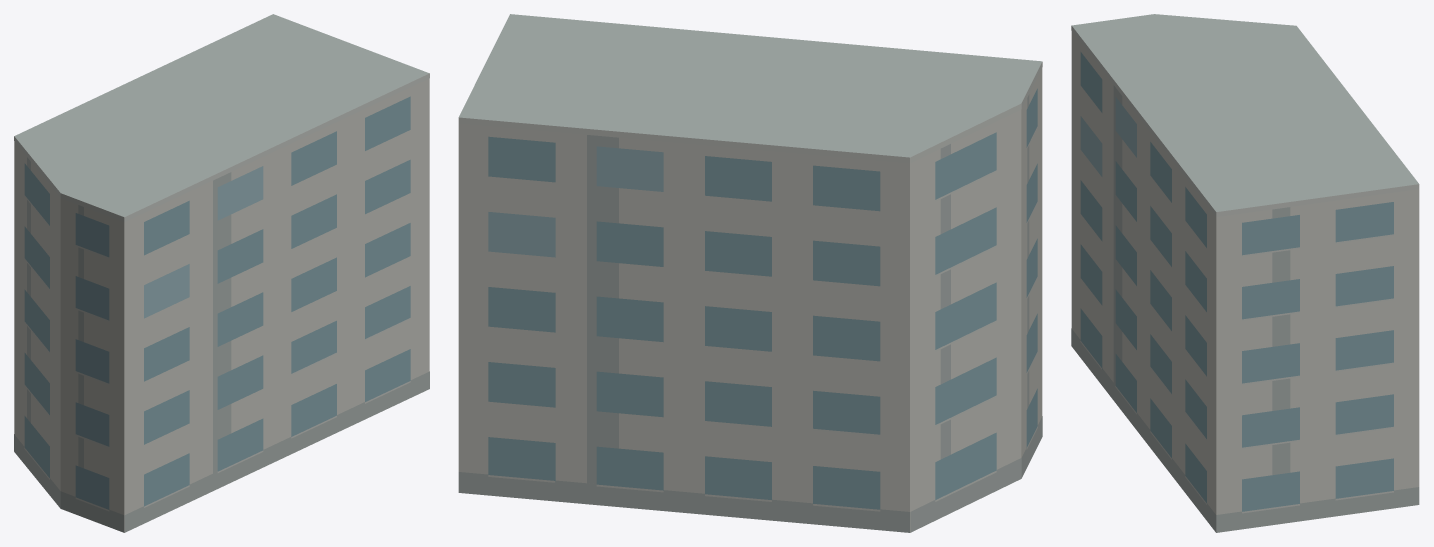
The model's file is residential-970bc5d6-501e-4245-a82c-68d0f33bf5a7.glb.
3 renders of one model, left to right at view 1: azimuth 30°, elevation 25°; view 2: azimuth 150°, elevation 25°; view 3: azimuth 270°, elevation 25°, orthographic. The views are drawn at different scales.
Visible parts, largest first — view 1: residential-970bc5d6-501e-4245-a82c-68d0f33bf5a7.tmp; view 2: residential-970bc5d6-501e-4245-a82c-68d0f33bf5a7.tmp; view 3: residential-970bc5d6-501e-4245-a82c-68d0f33bf5a7.tmp.
Boxes of the visible parts, x1,y1,x2,y2 form: residential-970bc5d6-501e-4245-a82c-68d0f33bf5a7.tmp: [14, 14, 429, 532]; residential-970bc5d6-501e-4245-a82c-68d0f33bf5a7.tmp: [458, 14, 1042, 532]; residential-970bc5d6-501e-4245-a82c-68d0f33bf5a7.tmp: [1071, 14, 1419, 532].
Size of the model in its own units: 20.21 by 15.25 by 15.
